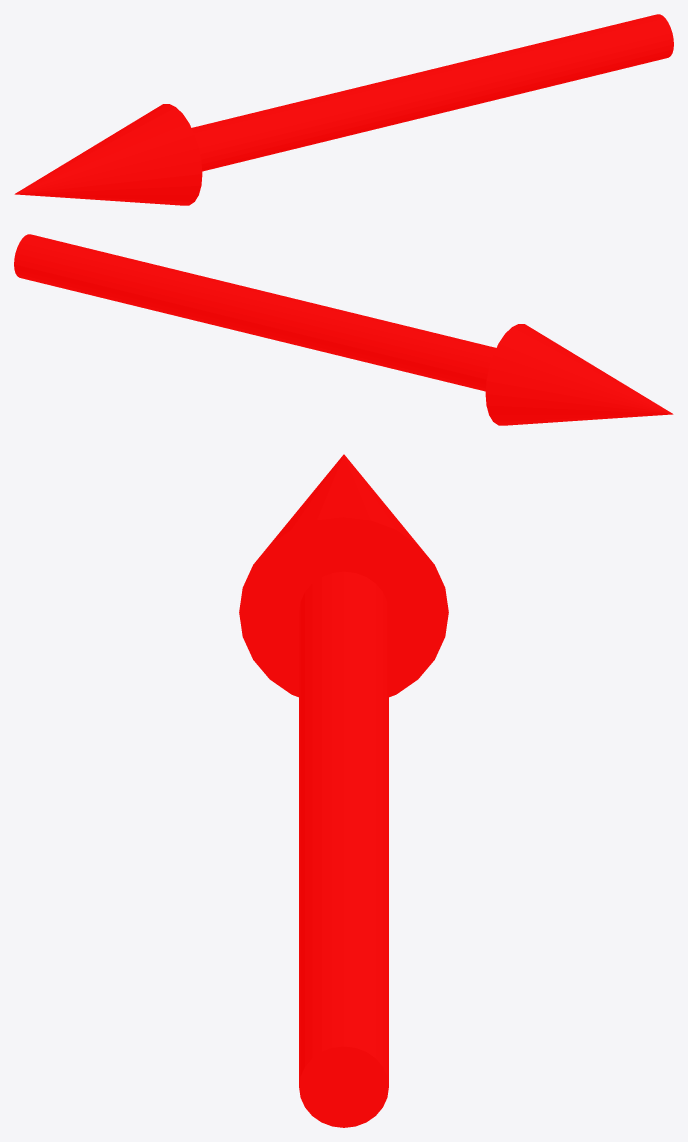
Rendered from move_x.glb.
The picture shows the model from 3 angles, top to bottom: view 1: azimuth 30°, elevation 25°; view 2: azimuth 150°, elevation 25°; view 3: azimuth 270°, elevation 25°; orthographic projection. The views are drawn at different scales.
Visible parts, largest first — view 1: Arrow_X; view 2: Arrow_X; view 3: Arrow_X.
Part boxes in pixels (x1=…): Arrow_X: x1=14, y1=14, x2=673, y2=205; Arrow_X: x1=14, y1=234, x2=673, y2=425; Arrow_X: x1=239, y1=454, x2=448, y2=1127.
Size of the model in its own units: 1 by 0.14 by 0.14.
